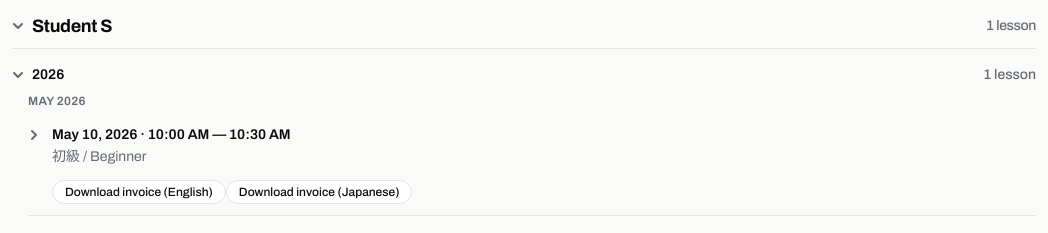
Scenario: TeacherCompletedLessonsClient › collapsing a student hides their lessons
Click the button "Student S 1 lesson".
click(72, 26)  # box x1=12 y1=12 x2=1036 y2=48
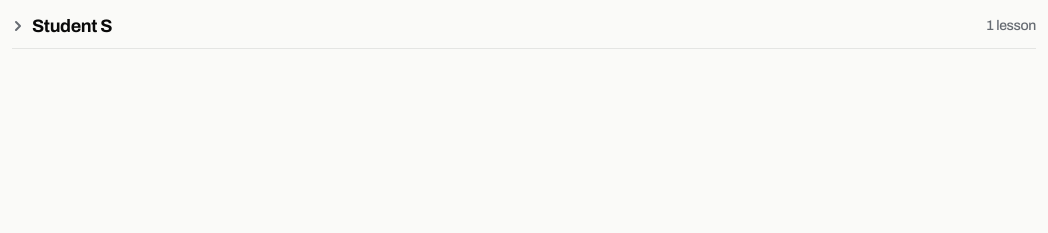
Result: the button "Student S 1 lesson" is collapsed at x1=12 y1=12 x2=1036 y2=48
Result: the button "初級 / Beginner" is gone
